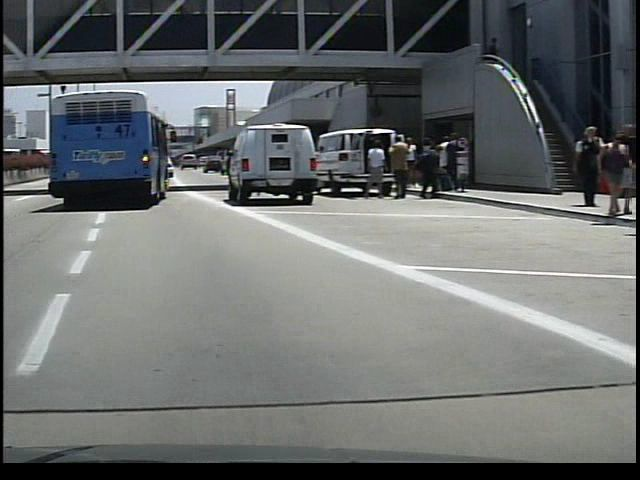person: (383, 133, 407, 201), (359, 134, 383, 198)
